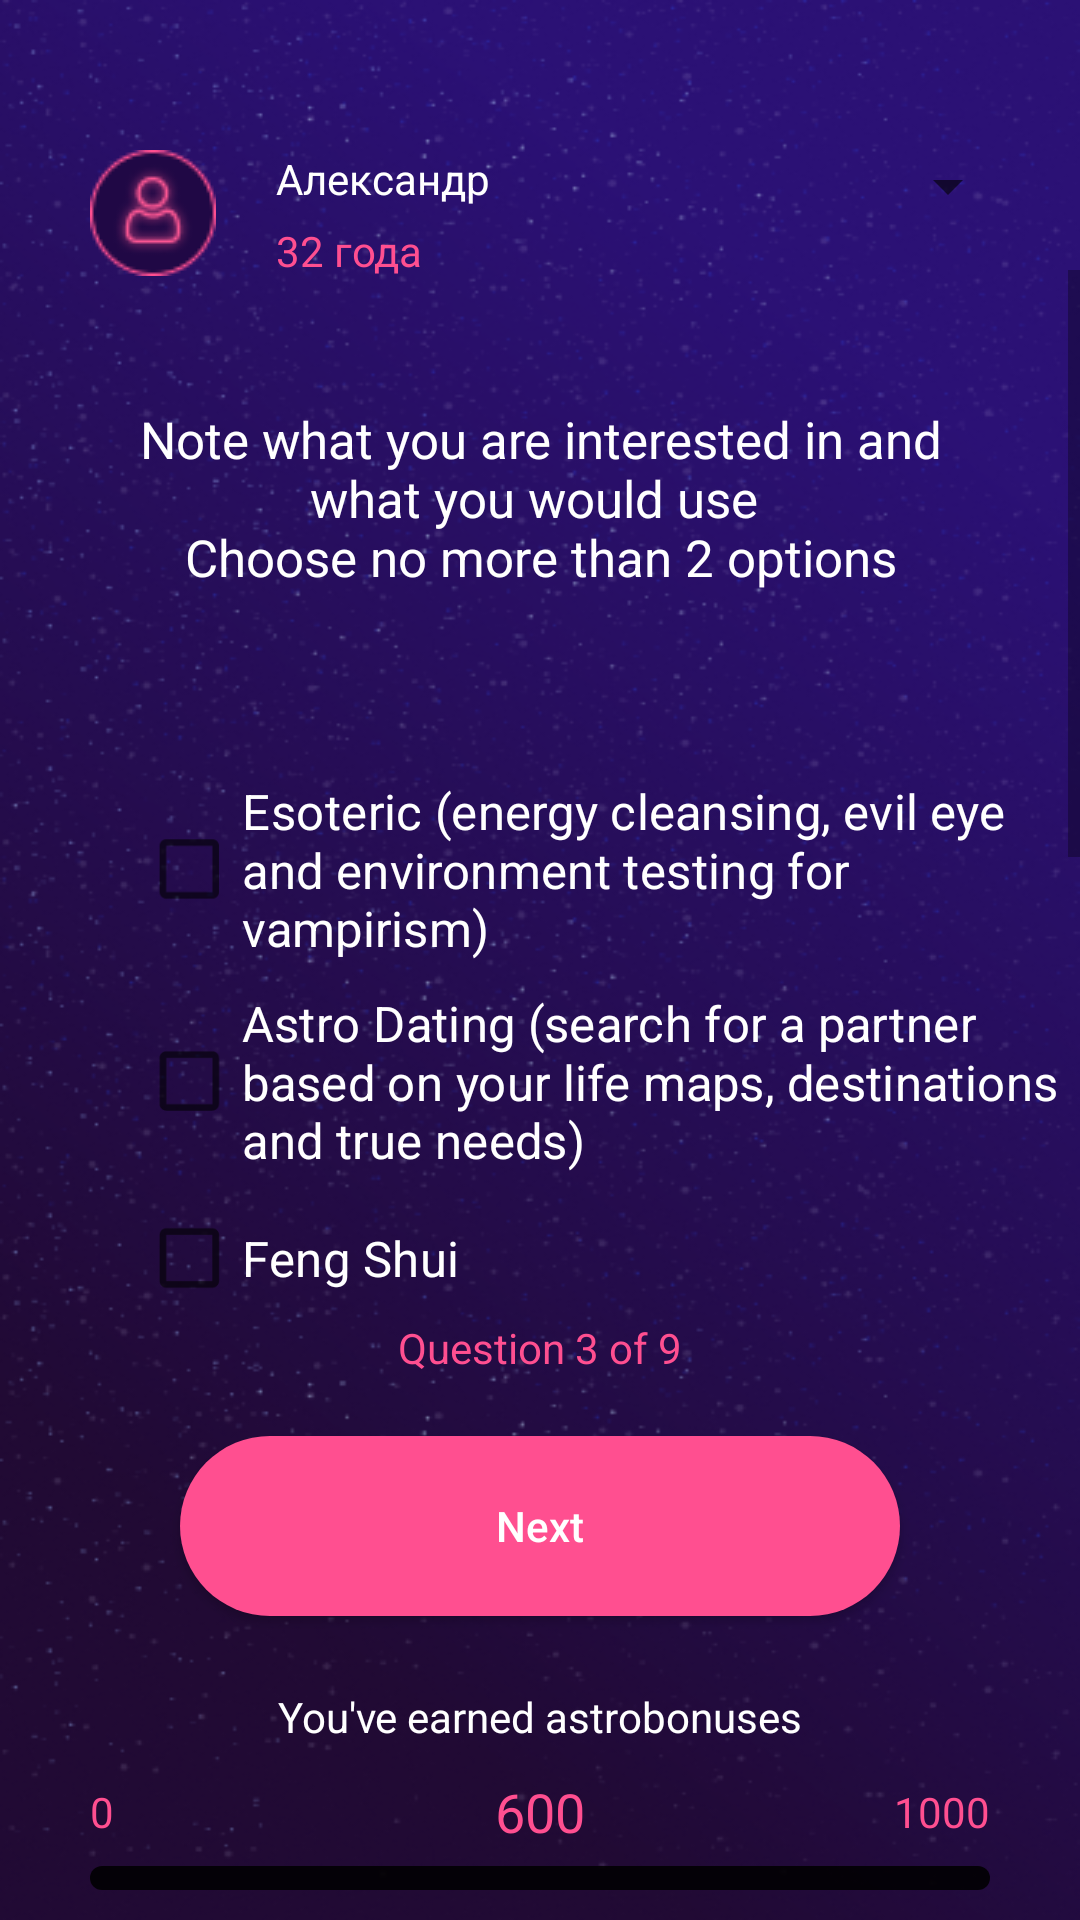

Named icons in this screenshot (1080 × 1920) and their centers, [x,y]:
user: [153,213]
